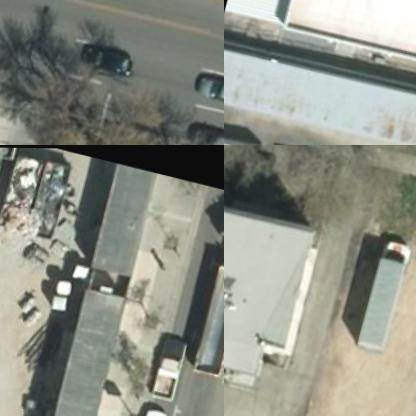car: (141, 330, 189, 402), (76, 36, 140, 78), (180, 113, 223, 144), (194, 68, 223, 108), (128, 402, 171, 415)
